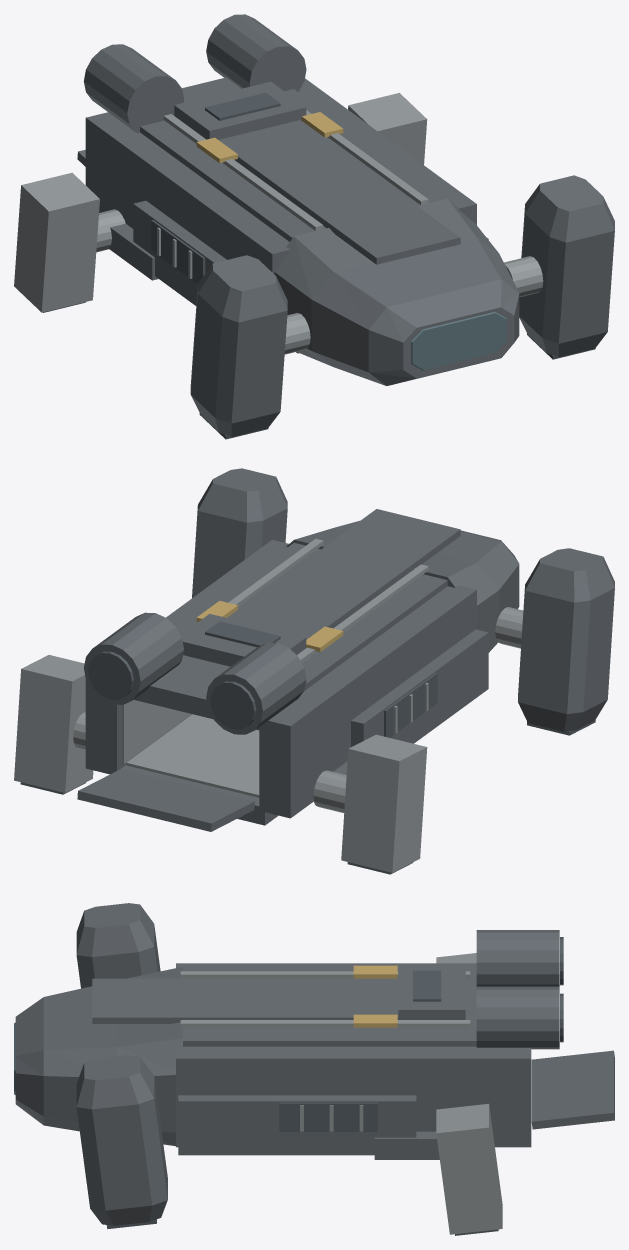
File: shipit_black_cargo_open.glb
The picture shows the model from 3 angles, top to bottom: view 1: azimuth 30°, elevation 25°; view 2: azimuth 150°, elevation 25°; view 3: azimuth 270°, elevation 25°; orthographic projection. The views are drawn at different scales.
Visible parts, largest first — view 1: body_0, engine_L_pivot_housing, engine_R_pivot_housing, rear_L_pivot_housing, body_1, body_2, rear_R_pivot_housing, body_4, body_3; view 2: body_0, engine_L_pivot_housing, body_1, rear_L_pivot_housing, rear_R_pivot_housing, engine_R_pivot_housing, body_4, cargo_ramp_panel, body_3; view 3: body_0, engine_R_pivot_housing, rear_R_pivot_housing, cargo_ramp_panel, engine_L_pivot_housing, body_4, body_1, body_3.
Boxes of the visible parts, left/top/right/bottom form: body_0: left=83, top=14, right=519, bottom=385; engine_L_pivot_housing: left=190, top=255, right=287, bottom=437; engine_R_pivot_housing: left=519, top=175, right=614, bottom=357; rear_L_pivot_housing: left=14, top=172, right=99, bottom=312; body_1: left=96, top=110, right=543, bottom=354; body_2: left=411, top=312, right=506, bottom=370; rear_R_pivot_housing: left=348, top=93, right=427, bottom=164; body_4: left=151, top=92, right=280, bottom=283; body_3: left=196, top=112, right=343, bottom=163; body_0: left=84, top=509, right=519, bottom=825; engine_L_pivot_housing: left=518, top=548, right=614, bottom=731; body_1: left=73, top=538, right=523, bottom=812; rear_L_pivot_housing: left=341, top=734, right=427, bottom=872; rear_R_pivot_housing: left=14, top=655, right=93, bottom=792; engine_R_pivot_housing: left=192, top=468, right=287, bottom=597; body_4: left=88, top=621, right=437, bottom=737; cargo_ramp_panel: left=77, top=769, right=254, bottom=831; body_3: left=196, top=601, right=343, bottom=651; body_0: left=15, top=930, right=559, bottom=1159; engine_R_pivot_housing: left=76, top=1055, right=167, bottom=1225; rear_R_pivot_housing: left=436, top=1103, right=502, bottom=1234; cargo_ramp_panel: left=531, top=1050, right=614, bottom=1129; engine_L_pivot_housing: left=76, top=903, right=160, bottom=988; body_4: left=279, top=937, right=563, bottom=1131; body_1: left=180, top=971, right=470, bottom=1131; body_3: left=353, top=965, right=397, bottom=1027.
Size of the model in its own units: 2.76 by 1.33 by 3.84.
